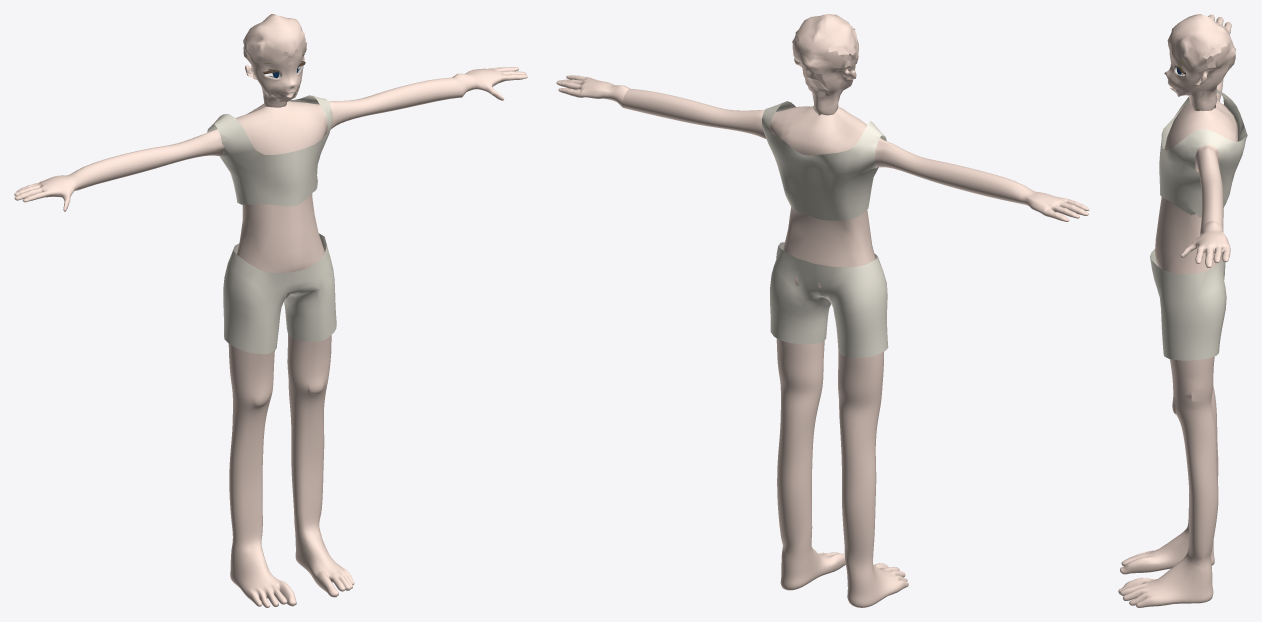
File: base_avatar.glb
3 renders of one model, left to right at view 1: azimuth 30°, elevation 25°; view 2: azimuth 150°, elevation 25°; view 3: azimuth 270°, elevation 25°, orthographic. The views are drawn at different scales.
Visible parts, largest first — view 1: body, underware, headpart; view 2: body, underware, headpart; view 3: body, underware, headpart.
Part boxes in pixels (x1,y1,x2,y2): body: [14, 67, 527, 607]; underware: [207, 95, 336, 354]; headpart: [243, 14, 306, 107]; body: [556, 75, 1089, 607]; underware: [762, 101, 888, 357]; headpart: [792, 14, 858, 115]; body: [1118, 14, 1238, 607]; underware: [1150, 89, 1247, 360]; headpart: [1164, 14, 1235, 110].
Bounding box in the file's own units: 12.36 × 12.95 × 2.66.
10 materials, 9 textured.
